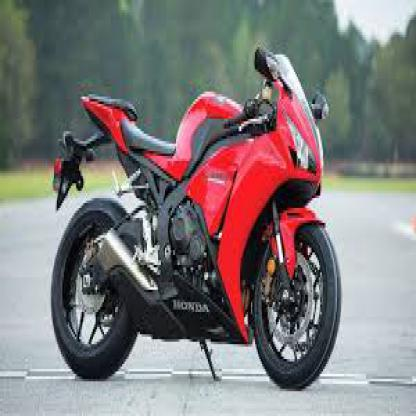Motorcycle: (47, 44, 347, 396)
